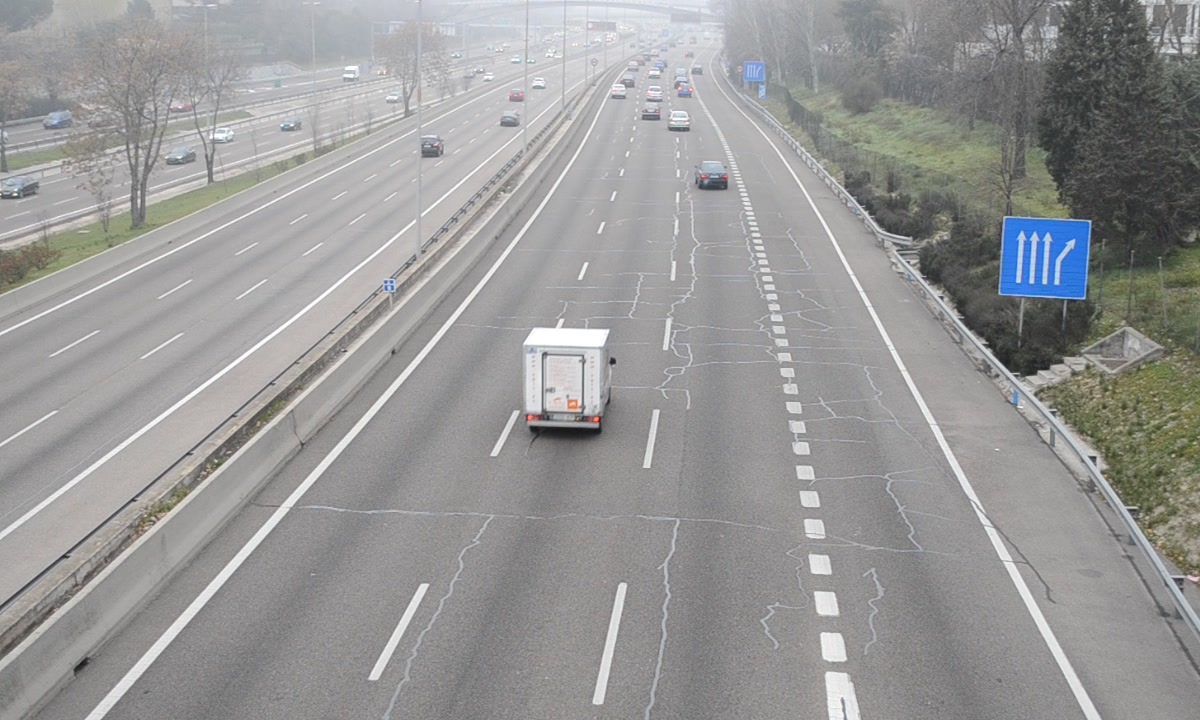car: (697, 159, 730, 189)
small-truck: (522, 327, 616, 429)
